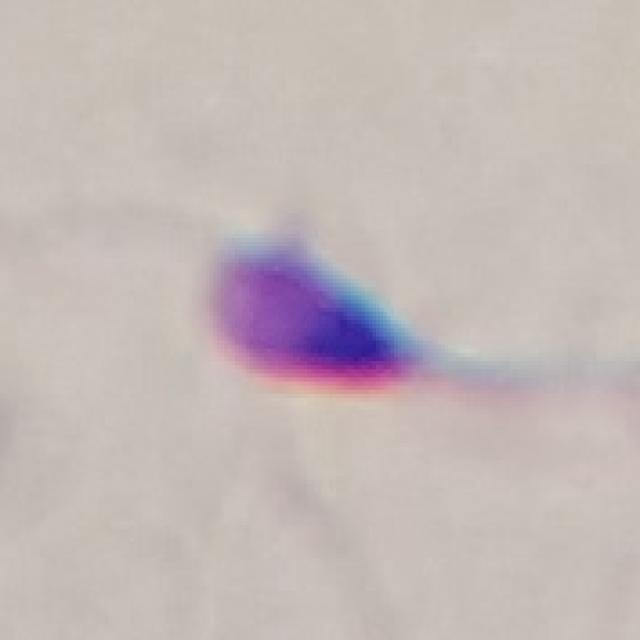normal sperm: (202, 217, 611, 411)
